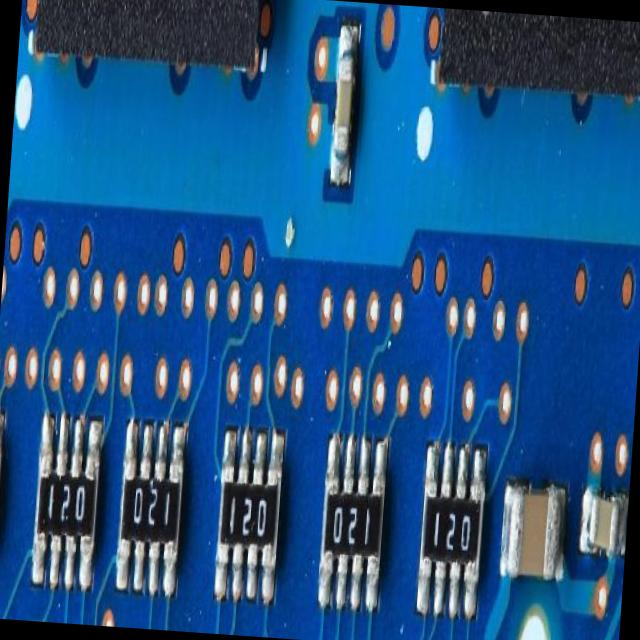capacitor: (504, 474, 566, 586), (329, 41, 356, 172), (584, 494, 620, 554)
resistor: (214, 455, 285, 585), (422, 467, 490, 596), (115, 452, 185, 576), (32, 452, 104, 567), (323, 471, 390, 580)
